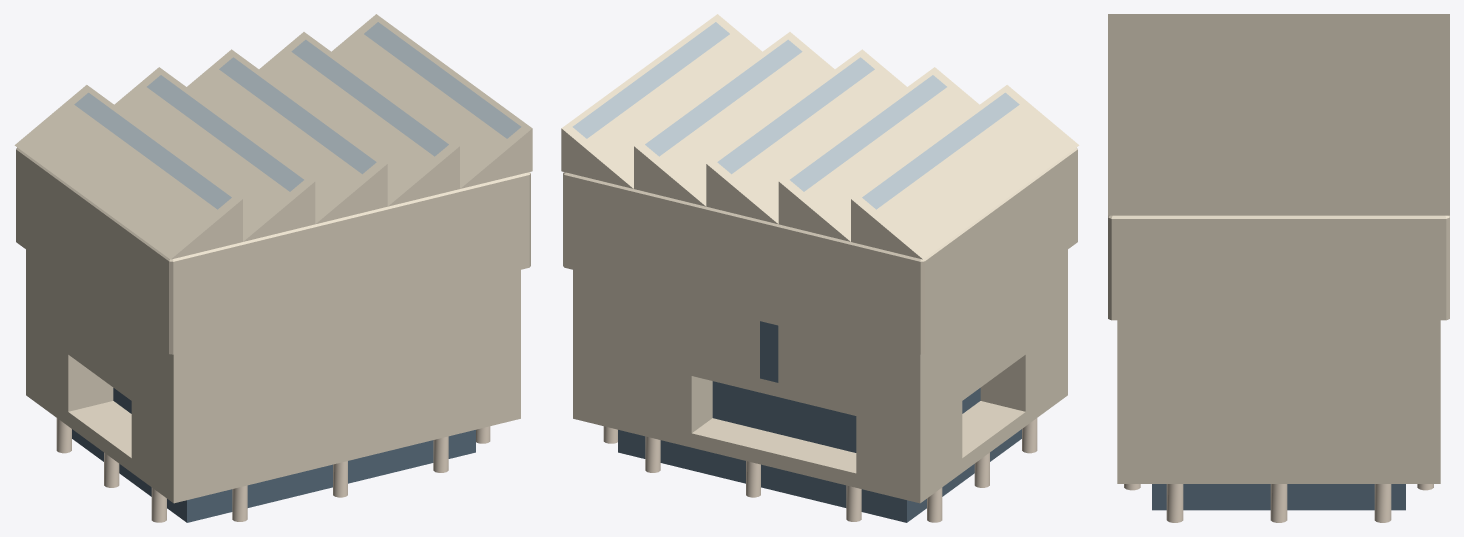
The model's file is mexico-city-museo-jumex.glb.
3 views of the same model, side by side, from view 1: azimuth 30°, elevation 25°; view 2: azimuth 150°, elevation 25°; view 3: azimuth 270°, elevation 25° (orthographic). The views are drawn at different scales.
Parts seen in each view (by area): view 1: Museo Jumex; view 2: Museo Jumex; view 3: Museo Jumex.
Part boxes in pixels (left/top/right/bottom): Museo Jumex: left=14, top=14, right=532, bottom=522; Museo Jumex: left=561, top=14, right=1079, bottom=522; Museo Jumex: left=1108, top=14, right=1449, bottom=522.
Bounding box in the file's own units: 39.6 × 34.5 × 29.6.
